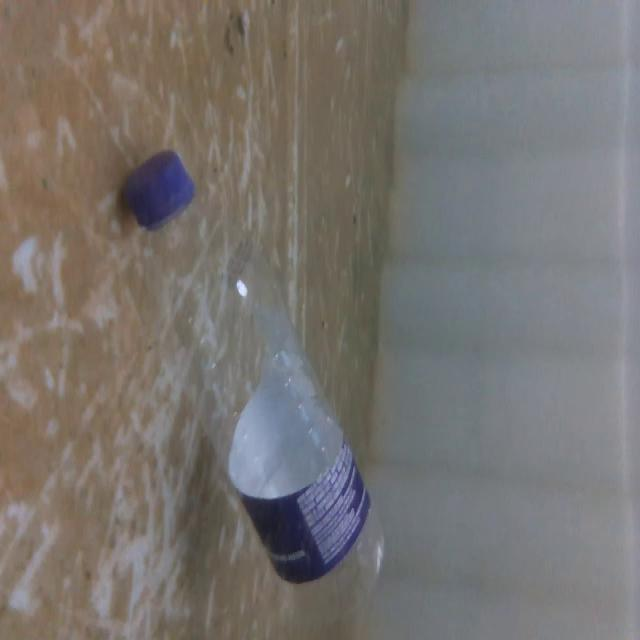plastic bottle: (114, 140, 394, 616)
